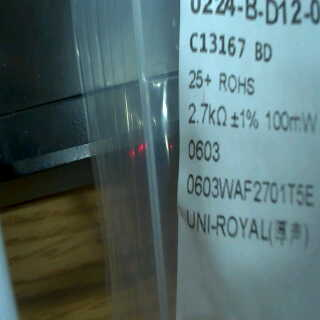2.7kR: (185, 94, 228, 131)
